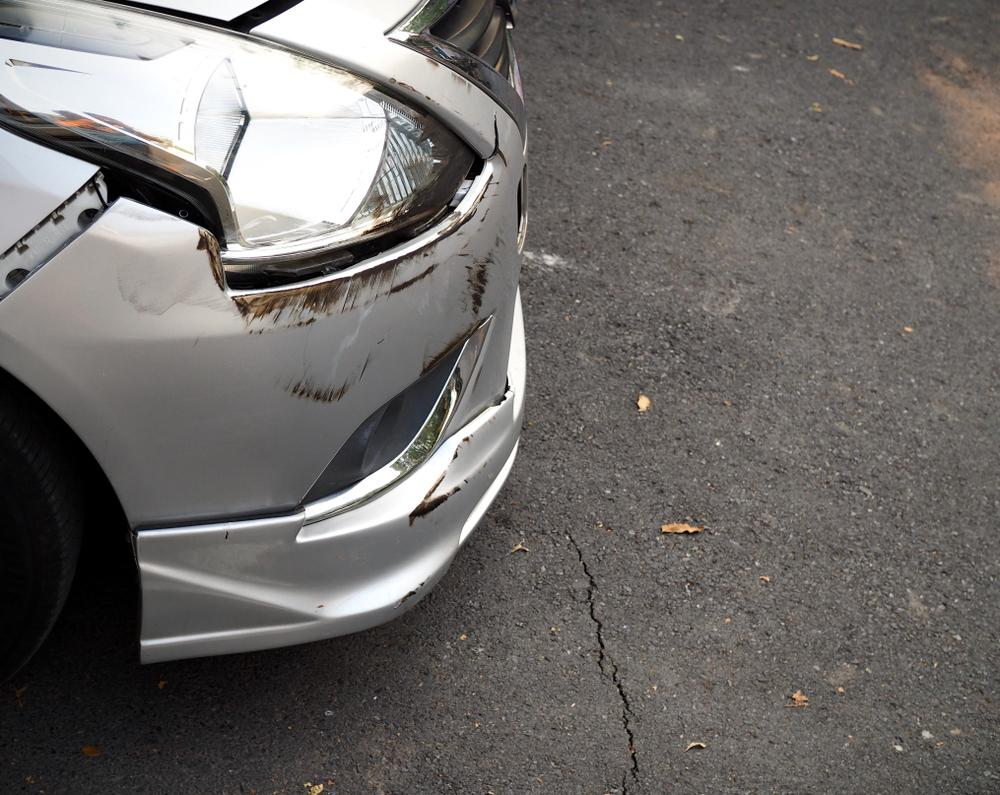crack: (483, 108, 511, 169)
scratch: (107, 168, 512, 404), (404, 418, 501, 528)
